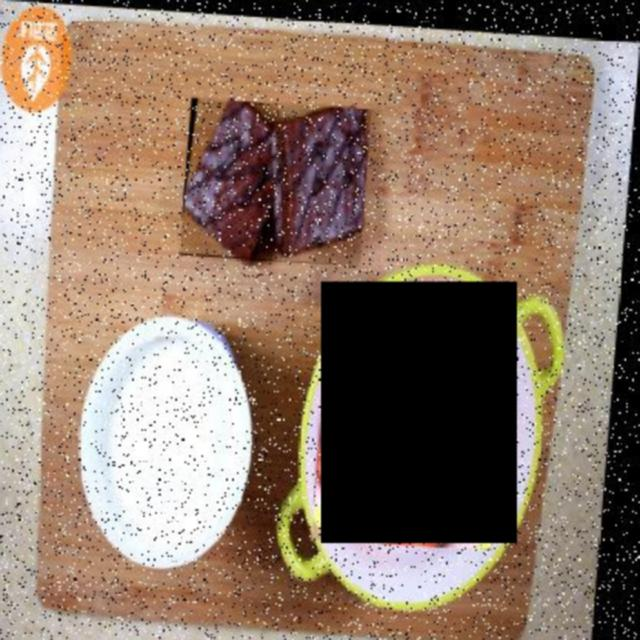Strawberry: (320, 282, 517, 543)
